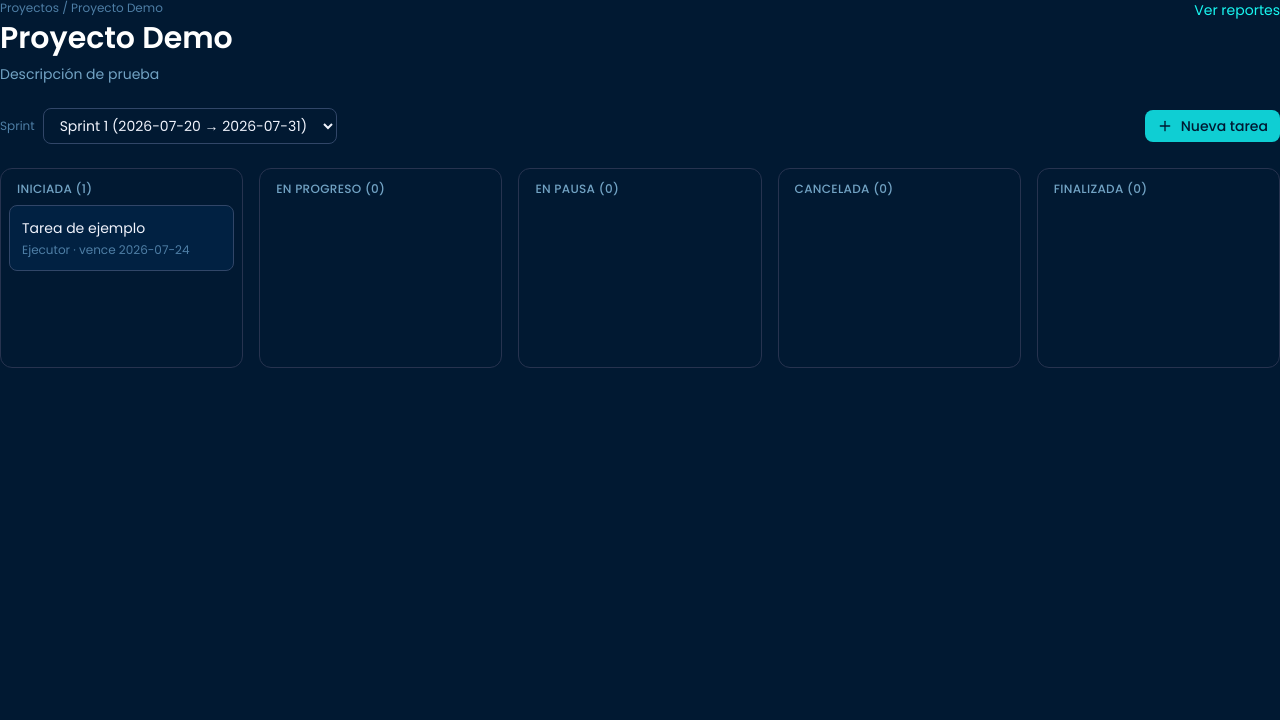
Test: ProjectDetailPage — modal de tarea › un ejecutor sin permisos no ve botones de editar/eliminar ni puede añadir subtareas
Click the element with test id "task-card-t-1": coordinates (122, 238) [9,205,234,271]
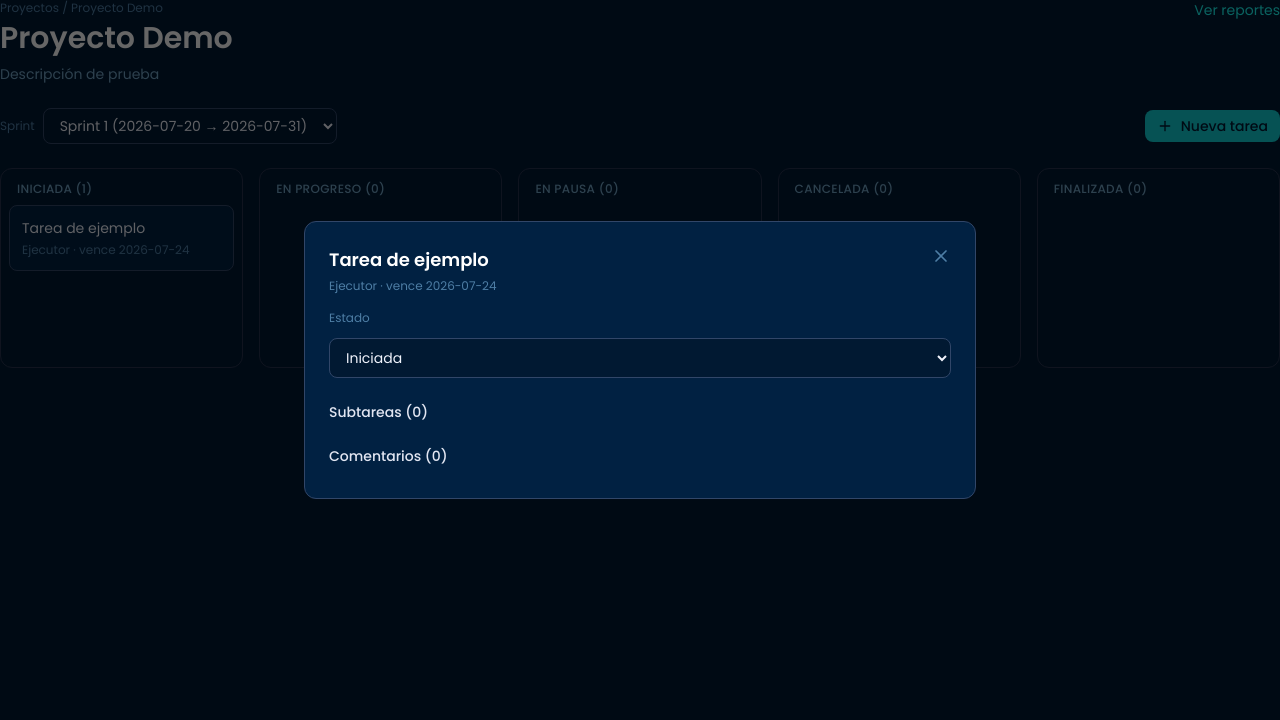
Now the dropdown with test id "task-status-select" is disabled, box [329,338,951,378]
